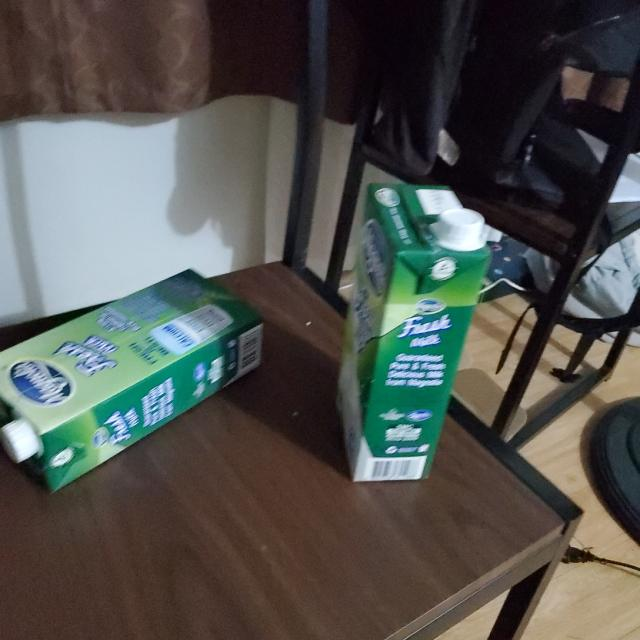milk: (1, 269, 266, 494), (339, 184, 496, 486)
